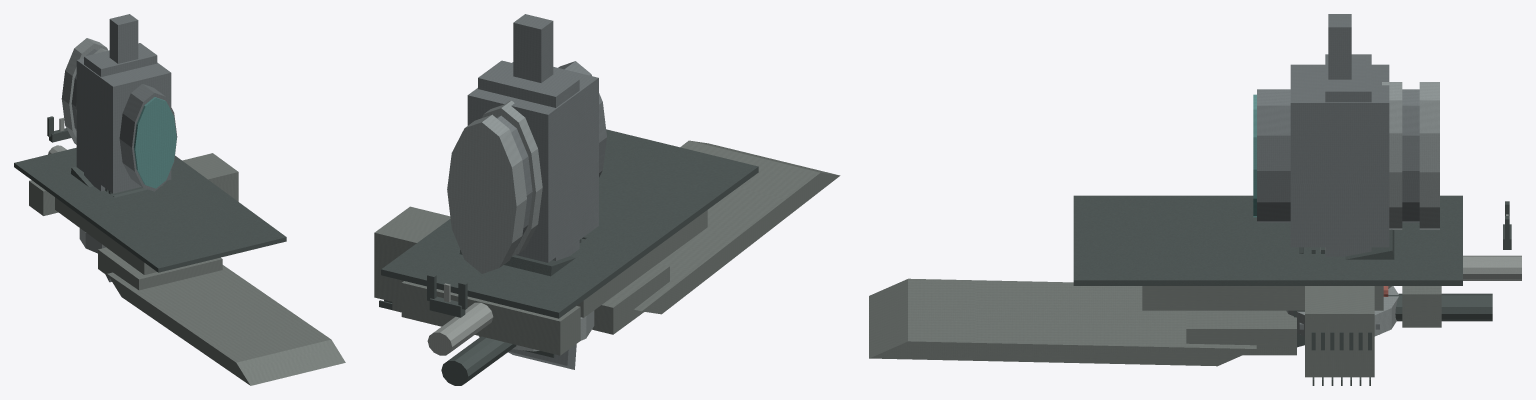
The model's file is weapon_benellim4.glb.
The picture shows the model from 3 angles, left to right: view 1: azimuth 30°, elevation 25°; view 2: azimuth 150°, elevation 25°; view 3: azimuth 270°, elevation 25°; orthographic projection. The views are drawn at different scales.
Visible parts, largest first — view 1: weapon_benellim4__L1_stock__benelli_stock, weapon_benellim4__L0_stock__benelli_stock, weapon_benellim4__L0_optic__prism2, weapon_benellim4__L1_optic__prism2, weapon_benellim4__L0_optic__dot_tube, weapon_benellim4__L1_optic__dot_tube, weapon_benellim4__L0_optic__scope4, weapon_benellim4__L0_handguard__benelli_guard, weapon_benellim4__L1_handguard__benelli_guard, weapon_benellim4__L0_optic__holo, weapon_benellim4__L1_optic__holo, weapon_benellim4__L1_optic__scope4 (+3 smaller); view 2: weapon_benellim4__L1_stock__benelli_stock, weapon_benellim4__L0_stock__benelli_stock, weapon_benellim4__L0_optic__prism2, weapon_benellim4__L1_optic__prism2, weapon_benellim4__L0_body, weapon_benellim4__L0_optic__dot_tube, weapon_benellim4__L0_optic__scope4, weapon_benellim4__L1_body, weapon_benellim4__L1_optic__dot_tube, weapon_benellim4__L1_handguard__benelli_guard, weapon_benellim4__L0_optic__holo, weapon_benellim4__L1_optic__holo (+4 smaller); view 3: weapon_benellim4__L1_stock__benelli_stock, weapon_benellim4__L0_stock__benelli_stock, weapon_benellim4__L0_optic__prism2, weapon_benellim4__L1_optic__prism2, weapon_benellim4__L0_optic__scope4, weapon_benellim4__L0_handguard__benelli_guard, weapon_benellim4__L0_body, weapon_benellim4__L0_optic__dot_tube, weapon_benellim4__L1_handguard__benelli_guard, weapon_benellim4__L1_optic__dot_tube, weapon_benellim4__L1_optic__scope4, weapon_benellim4__L1_optic__holo (+3 smaller).
Boxes of the visible parts, bbox=[...] form: weapon_benellim4__L1_stock__benelli_stock: bbox=[14, 147, 345, 385]; weapon_benellim4__L0_stock__benelli_stock: bbox=[15, 148, 343, 384]; weapon_benellim4__L0_optic__prism2: bbox=[62, 38, 175, 191]; weapon_benellim4__L1_optic__prism2: bbox=[61, 38, 176, 193]; weapon_benellim4__L0_optic__dot_tube: bbox=[76, 14, 175, 186]; weapon_benellim4__L1_optic__dot_tube: bbox=[75, 14, 176, 188]; weapon_benellim4__L0_optic__scope4: bbox=[71, 49, 173, 189]; weapon_benellim4__L0_handguard__benelli_guard: bbox=[182, 154, 237, 200]; weapon_benellim4__L1_handguard__benelli_guard: bbox=[183, 153, 238, 201]; weapon_benellim4__L0_optic__holo: bbox=[84, 43, 156, 190]; weapon_benellim4__L1_optic__holo: bbox=[84, 43, 157, 191]; weapon_benellim4__L1_optic__scope4: bbox=[72, 49, 177, 191]; weapon_benellim4__L1_stock__benelli_stock: bbox=[381, 129, 840, 355]; weapon_benellim4__L0_stock__benelli_stock: bbox=[383, 131, 838, 354]; weapon_benellim4__L0_optic__prism2: bbox=[448, 67, 598, 271]; weapon_benellim4__L1_optic__prism2: bbox=[447, 62, 598, 273]; weapon_benellim4__L0_body: bbox=[427, 274, 554, 385]; weapon_benellim4__L0_optic__dot_tube: bbox=[485, 14, 552, 253]; weapon_benellim4__L0_optic__scope4: bbox=[448, 61, 606, 265]; weapon_benellim4__L1_body: bbox=[427, 273, 554, 385]; weapon_benellim4__L1_optic__dot_tube: bbox=[482, 14, 553, 255]; weapon_benellim4__L1_handguard__benelli_guard: bbox=[374, 206, 450, 312]; weapon_benellim4__L0_optic__holo: bbox=[479, 61, 579, 260]; weapon_benellim4__L1_optic__holo: bbox=[478, 60, 579, 260]; weapon_benellim4__L1_stock__benelli_stock: bbox=[869, 195, 1462, 366]; weapon_benellim4__L0_stock__benelli_stock: bbox=[869, 196, 1460, 365]; weapon_benellim4__L0_optic__prism2: bbox=[1282, 74, 1439, 244]; weapon_benellim4__L1_optic__prism2: bbox=[1282, 64, 1439, 247]; weapon_benellim4__L0_optic__scope4: bbox=[1258, 89, 1419, 222]; weapon_benellim4__L0_handguard__benelli_guard: bbox=[1305, 315, 1374, 384]; weapon_benellim4__L0_body: bbox=[1388, 202, 1521, 321]; weapon_benellim4__L0_optic__dot_tube: bbox=[1254, 14, 1401, 229]; weapon_benellim4__L1_handguard__benelli_guard: bbox=[1305, 286, 1374, 385]; weapon_benellim4__L1_optic__dot_tube: bbox=[1253, 14, 1402, 229]; weapon_benellim4__L1_optic__scope4: bbox=[1257, 89, 1419, 222]; weapon_benellim4__L1_optic__holo: bbox=[1325, 54, 1371, 256].
Bounding box in the file's own units: 3.72 × 5.38 × 9.37.
3 materials, 3 textured.
